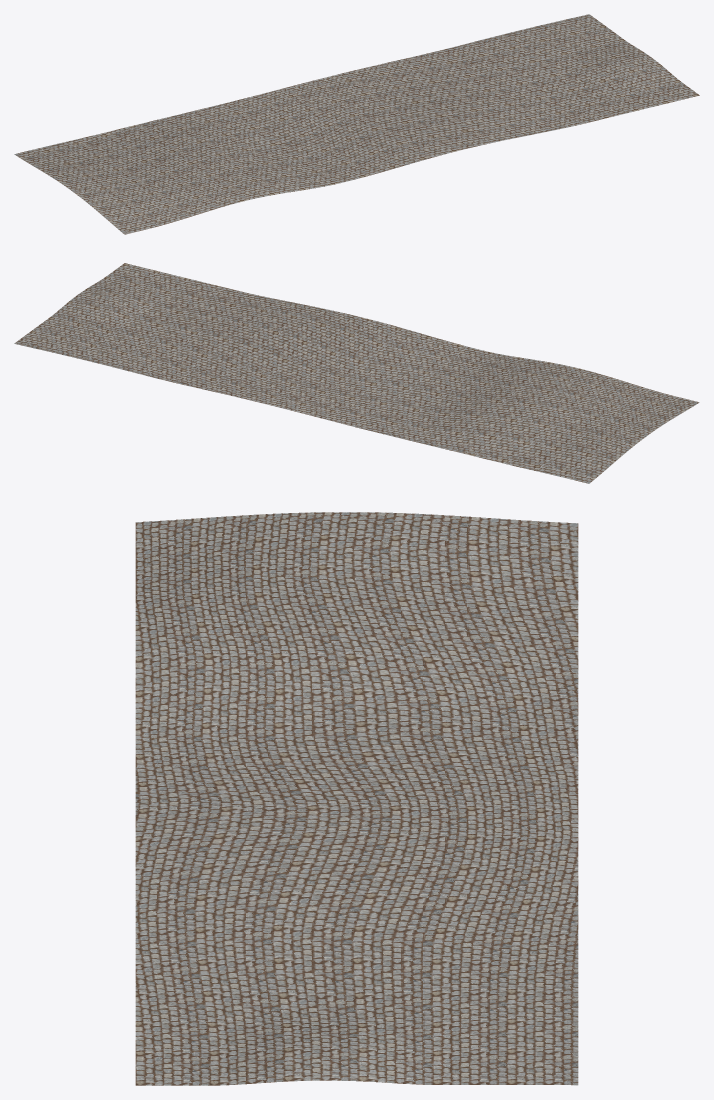
File: Floor.obj
3 views of the same model, one above another, from view 1: azimuth 30°, elevation 25°; view 2: azimuth 150°, elevation 25°; view 3: azimuth 270°, elevation 25° (orthographic). The views are drawn at different scales.
Visible parts, largest first — view 1: Plane.004; view 2: Plane.004; view 3: Plane.004.
Part boxes in pixels (<box>): Plane.004: <box>14,14,699,234</box>; Plane.004: <box>14,263,699,483</box>; Plane.004: <box>135,512,578,1085</box>.
Size of the model in its own units: 6 by 0.0706 by 2.
